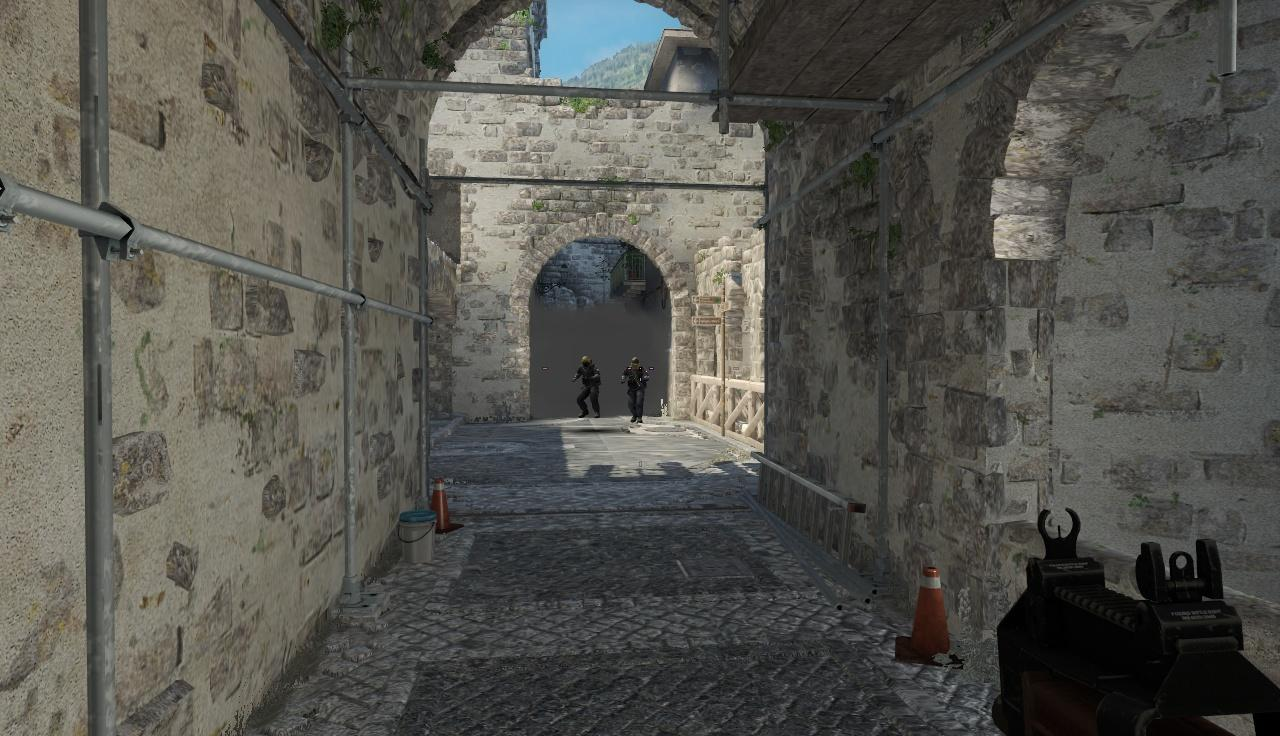ct: (576, 357, 599, 419), (626, 358, 648, 422)
cthead: (631, 358, 642, 369), (582, 357, 591, 368)
rifle: (999, 511, 1279, 736)
